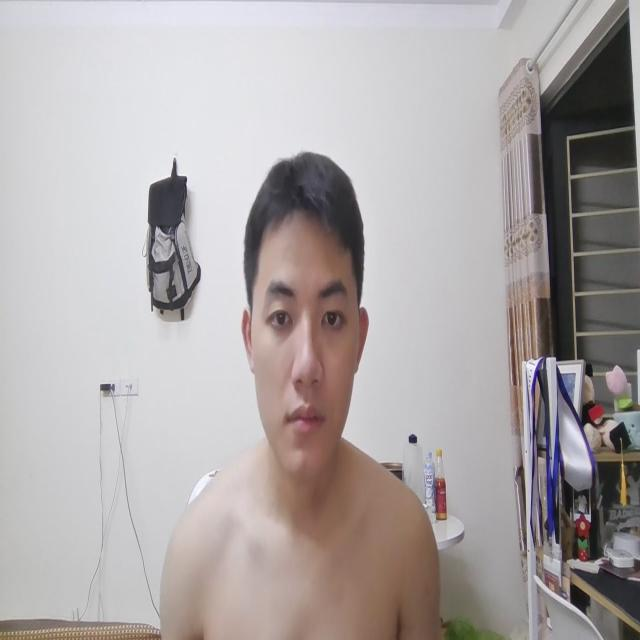student: (218, 115, 402, 620)
